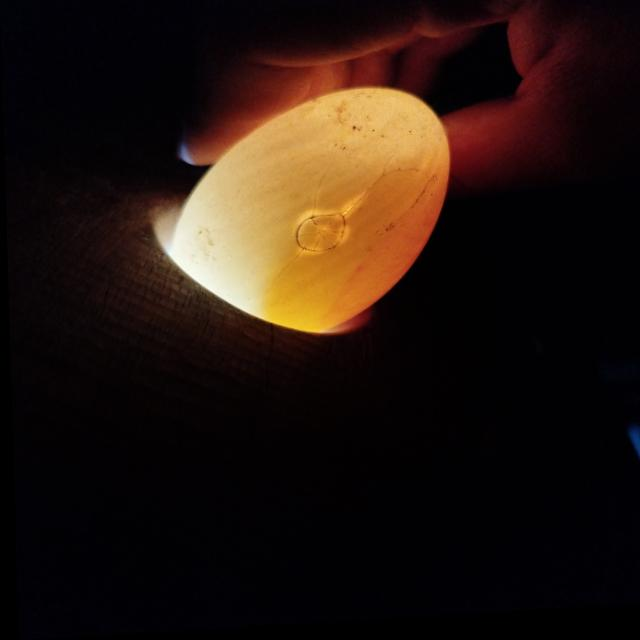Rachadura: (296, 218, 344, 255)
